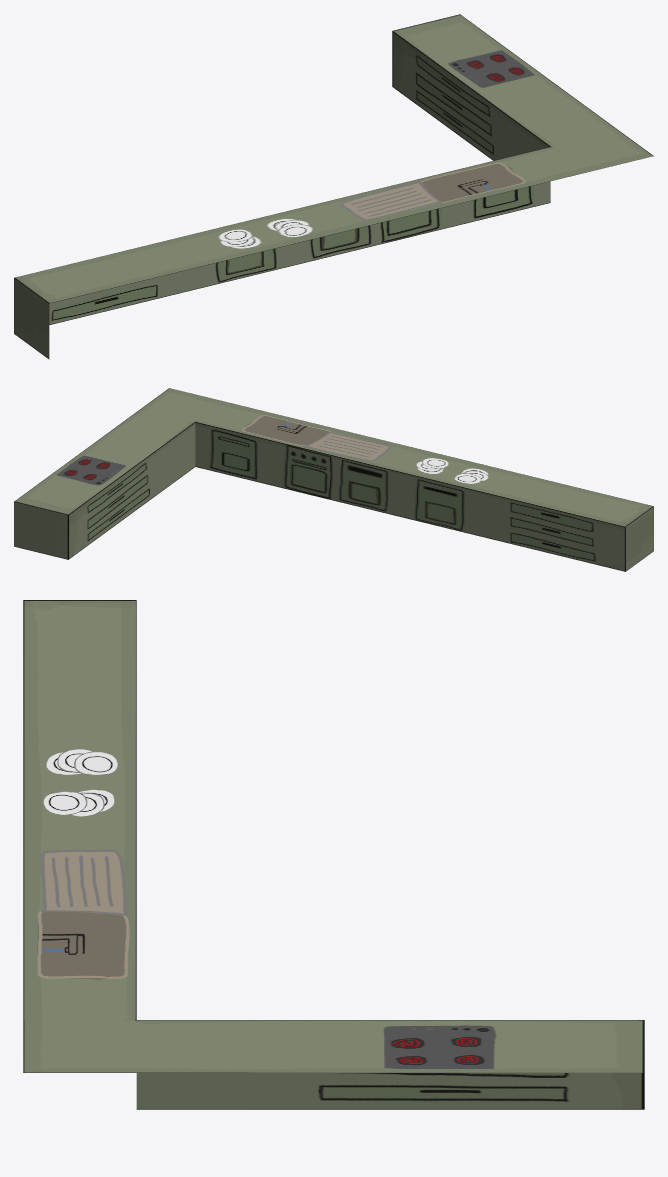
Rendered from Cuisine.fbx.
3 views of the same model, one above another, from view 1: azimuth 30°, elevation 25°; view 2: azimuth 150°, elevation 25°; view 3: azimuth 270°, elevation 25° (orthographic). The views are drawn at different scales.
Parts seen in each view (by area): view 1: Cuisine; view 2: Cuisine; view 3: Cuisine.
Boxes of the visible parts, left/top/right/bottom form: Cuisine: left=14, top=14, right=653, bottom=359; Cuisine: left=14, top=388, right=653, bottom=571; Cuisine: left=23, top=600, right=644, bottom=1109.
Size of the model in its own units: 17.81 by 1.58 by 9.88.
